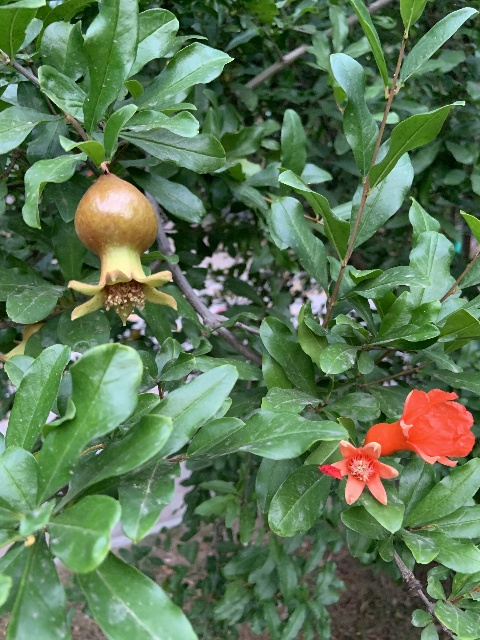early-fruit: (64, 174, 177, 324)
flower: (363, 387, 476, 466), (319, 438, 398, 505)
